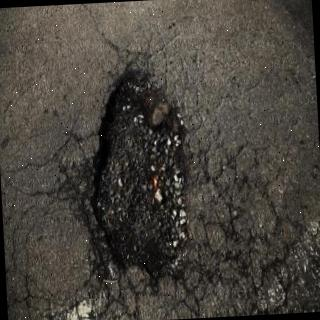pothole: (81, 67, 191, 282)
